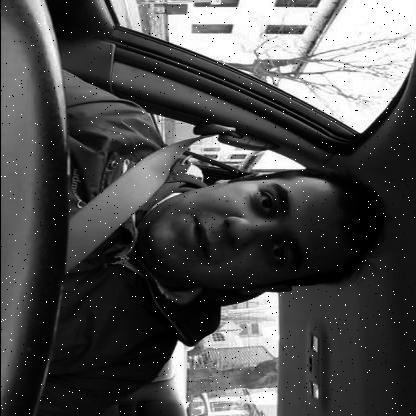seatbelt: (57, 115, 389, 313)
